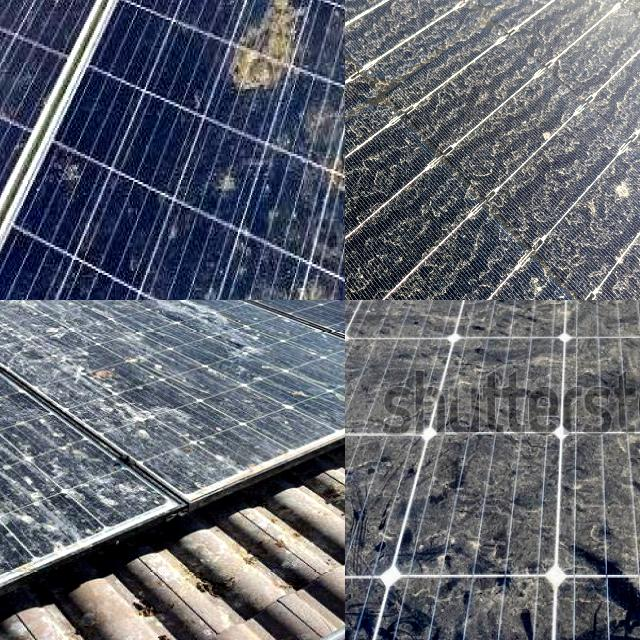bird: (227, 0, 314, 104), (0, 484, 55, 594), (0, 321, 106, 378), (0, 464, 71, 536), (345, 156, 396, 251), (271, 0, 341, 56), (241, 256, 328, 300), (191, 317, 257, 367), (0, 350, 45, 405), (54, 154, 96, 204), (30, 0, 74, 28), (322, 141, 345, 188), (207, 0, 241, 30)
dust: (456, 135, 627, 300), (345, 0, 431, 245), (403, 426, 558, 559), (481, 0, 640, 97), (351, 300, 640, 337), (345, 430, 418, 569), (561, 442, 640, 568), (345, 0, 417, 127), (384, 587, 545, 640), (452, 336, 559, 414), (345, 335, 443, 418), (400, 300, 633, 327), (565, 570, 640, 640), (585, 328, 640, 417), (468, 300, 640, 327), (345, 300, 436, 339), (345, 582, 405, 640), (345, 0, 444, 30), (345, 328, 370, 416), (345, 300, 406, 335)
